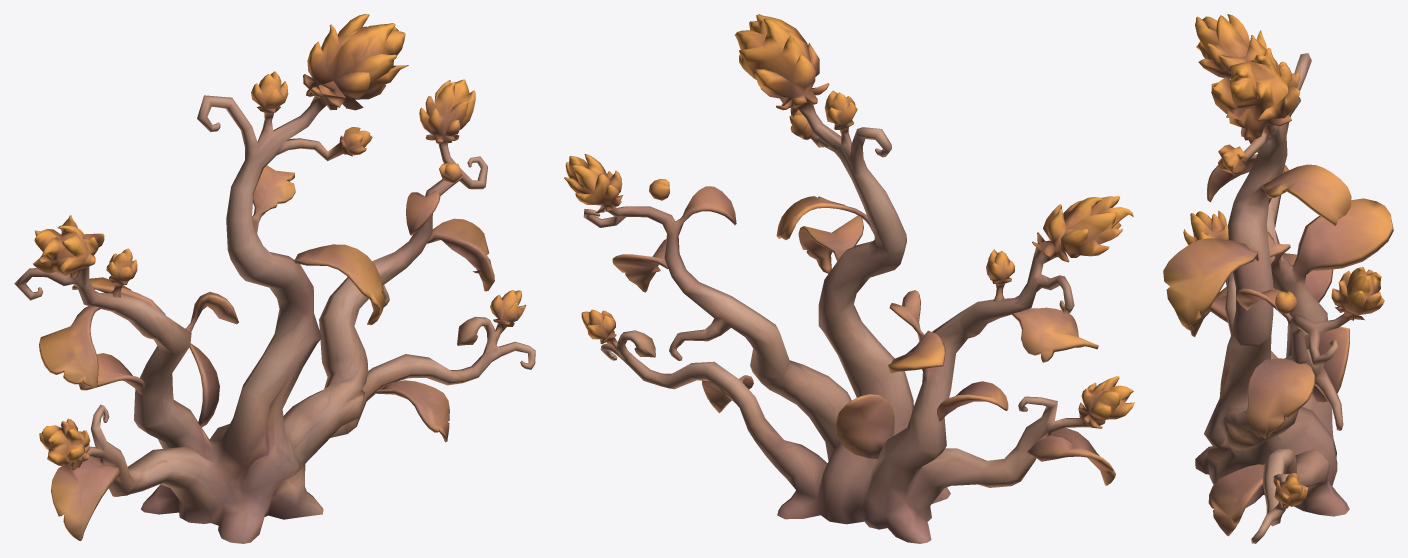
Rendered from dry-sageweed.glb.
3 renders of one model, left to right at view 1: azimuth 30°, elevation 25°; view 2: azimuth 150°, elevation 25°; view 3: azimuth 270°, elevation 25°, orthographic. The views are drawn at different scales.
Visible parts, largest first — view 1: tripo_node_caee665d-337e-458d-85c6-2d308d86aa28; view 2: tripo_node_caee665d-337e-458d-85c6-2d308d86aa28; view 3: tripo_node_caee665d-337e-458d-85c6-2d308d86aa28.
Boxes of the visible parts, left/top/right/bottom form: tripo_node_caee665d-337e-458d-85c6-2d308d86aa28: left=14, top=14, right=535, bottom=543; tripo_node_caee665d-337e-458d-85c6-2d308d86aa28: left=564, top=14, right=1134, bottom=543; tripo_node_caee665d-337e-458d-85c6-2d308d86aa28: left=1163, top=14, right=1393, bottom=543.
Size of the model in its own units: 0.9995 by 0.8579 by 0.3687.
Materials: 1 (1 with a texture image).
